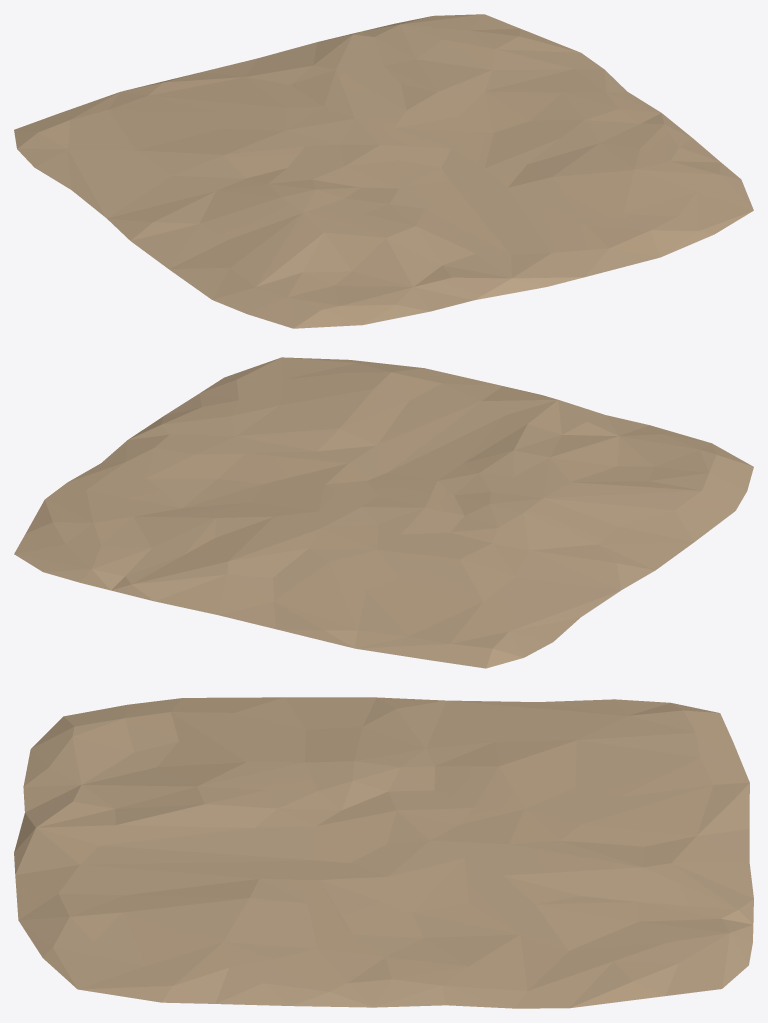
Rendered from kingdom_SM_Env_Ground_Flat_Dirt_01.gltf.
3 views of the same model, one above another, from view 1: azimuth 30°, elevation 25°; view 2: azimuth 150°, elevation 25°; view 3: azimuth 270°, elevation 25° (orthographic). The views are drawn at different scales.
Parts seen in each view (by area): view 1: SM_Env_Ground_Flat_Dirt_01; view 2: SM_Env_Ground_Flat_Dirt_01; view 3: SM_Env_Ground_Flat_Dirt_01.
Part boxes in pixels (box(x1,y1,x2,y2)): SM_Env_Ground_Flat_Dirt_01: box(14, 14, 753, 328); SM_Env_Ground_Flat_Dirt_01: box(14, 357, 753, 668); SM_Env_Ground_Flat_Dirt_01: box(14, 697, 753, 1008).
Size of the model in its own units: 10.4 by 0.3009 by 10.44.
1 material, 1 textured.
